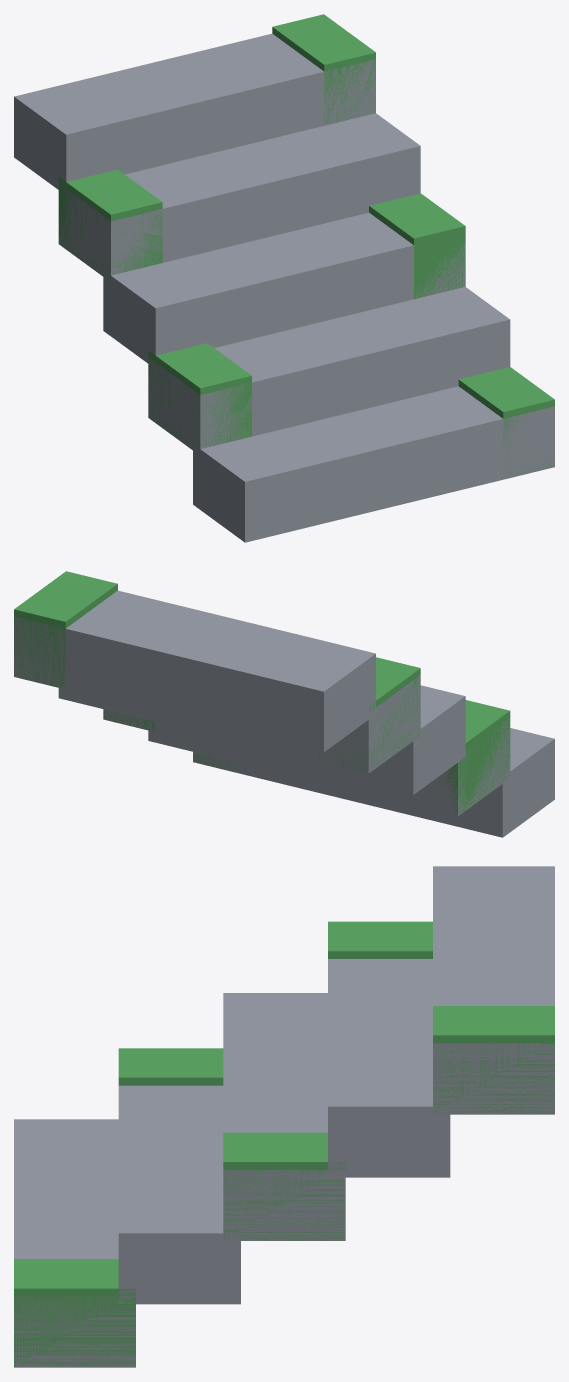
The model's file is xy_terrain_stairs.glb.
The picture shows the model from 3 angles, top to bottom: view 1: azimuth 30°, elevation 25°; view 2: azimuth 150°, elevation 25°; view 3: azimuth 270°, elevation 25°; orthographic projection. The views are drawn at different scales.
Parts seen in each view (by area): view 1: Terrain; view 2: Terrain; view 3: Terrain.
Part boxes in pixels (x1,y1,x2,y2): Terrain: (14,14,554,542); Terrain: (14,571,554,837); Terrain: (14,866,554,1367).
Bounding box in the file's own units: 2.4 × 2.1 × 3.1.
